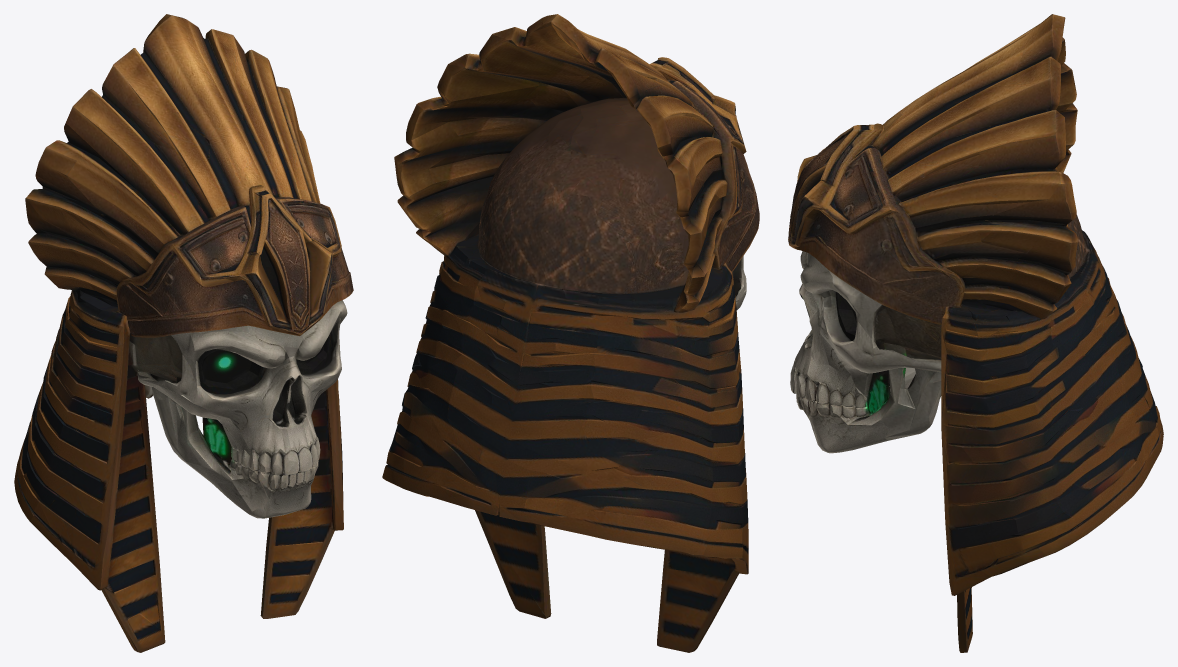
Rendered from hero_clich_reliquary_helm.glb.
The picture shows the model from 3 angles, left to right: view 1: azimuth 30°, elevation 25°; view 2: azimuth 150°, elevation 25°; view 3: azimuth 270°, elevation 25°; orthographic projection. The views are drawn at different scales.
Size of the model in its own units: 1.04 by 1.9 by 1.08.
1 material, 1 textured.
